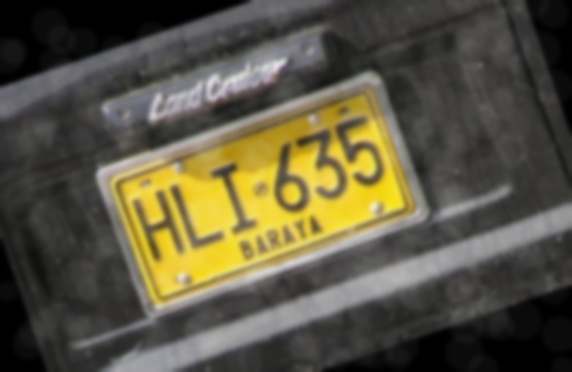placas: (101, 77, 428, 316)
